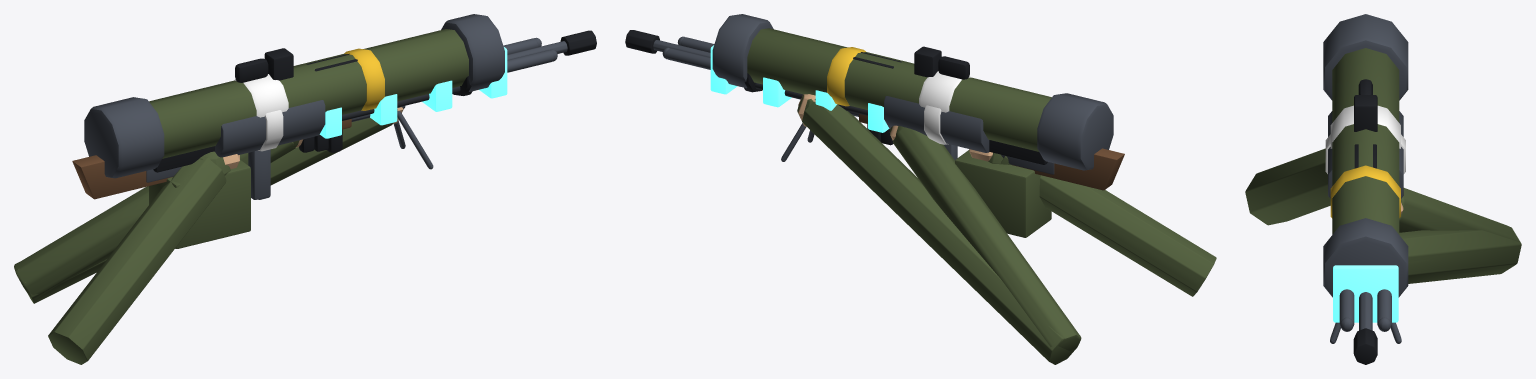
The model's file is weapons.glb.
3 renders of one model, left to right at view 1: azimuth 30°, elevation 25°; view 2: azimuth 150°, elevation 25°; view 3: azimuth 270°, elevation 25°, orthographic. The views are drawn at different scales.
Parts seen in each view (by area): view 1: g_rocket, g_minigun, vm_minigun, vm_smg, vm_railgun, vm_sniper, vm_pistol, g_railgun, g_sniper, g_rifle, vm_shotgun; view 2: g_rocket, g_minigun, vm_sniper, vm_minigun, vm_smg, vm_railgun, vm_pistol, g_railgun, g_sniper, vm_shotgun, vm_rifle; view 3: g_rocket, vm_railgun, g_railgun, vm_minigun, vm_sniper, vm_smg, g_minigun, g_sniper, vm_pistol, vm_shotgun, vm_rocket.
Boxes of the visible parts, box(x1,y1,x2,y2) form: g_rocket: box(84, 14, 504, 178); g_minigun: box(149, 48, 472, 248); vm_minigun: box(29, 151, 237, 363); vm_smg: box(14, 139, 303, 299); vm_railgun: box(31, 117, 397, 363); vm_sniper: box(14, 107, 403, 364); vm_pistol: box(29, 147, 292, 360); g_railgun: box(146, 37, 557, 182); g_sniper: box(72, 30, 596, 199); g_rifle: box(248, 135, 328, 199); vm_shotgun: box(50, 107, 400, 358); g_rocket: box(712, 14, 1113, 170); g_minigun: box(744, 46, 1051, 237); vm_sniper: box(797, 94, 1216, 364); vm_minigun: box(799, 94, 1214, 363); vm_smg: box(889, 125, 1081, 351); vm_railgun: box(798, 94, 1212, 361); vm_pistol: box(895, 126, 1211, 351); g_railgun: box(662, 36, 1054, 174); g_sniper: box(625, 30, 1124, 190); vm_shotgun: box(805, 94, 1210, 362); vm_rifle: box(835, 105, 1197, 337); g_rocket: box(1323, 14, 1408, 297); vm_railgun: box(1247, 164, 1519, 282); g_railgun: box(1333, 144, 1398, 331); vm_minigun: box(1246, 150, 1520, 261); vm_sniper: box(1245, 148, 1521, 283); vm_smg: box(1249, 188, 1519, 242); g_minigun: box(1325, 95, 1405, 198); g_sniper: box(1330, 292, 1401, 364); vm_pistol: box(1254, 154, 1516, 236); vm_shotgun: box(1249, 153, 1513, 270); vm_rocket: box(1407, 243, 1510, 274).
Size of the model in its own units: 1.67 by 0.6687 by 0.5895.
